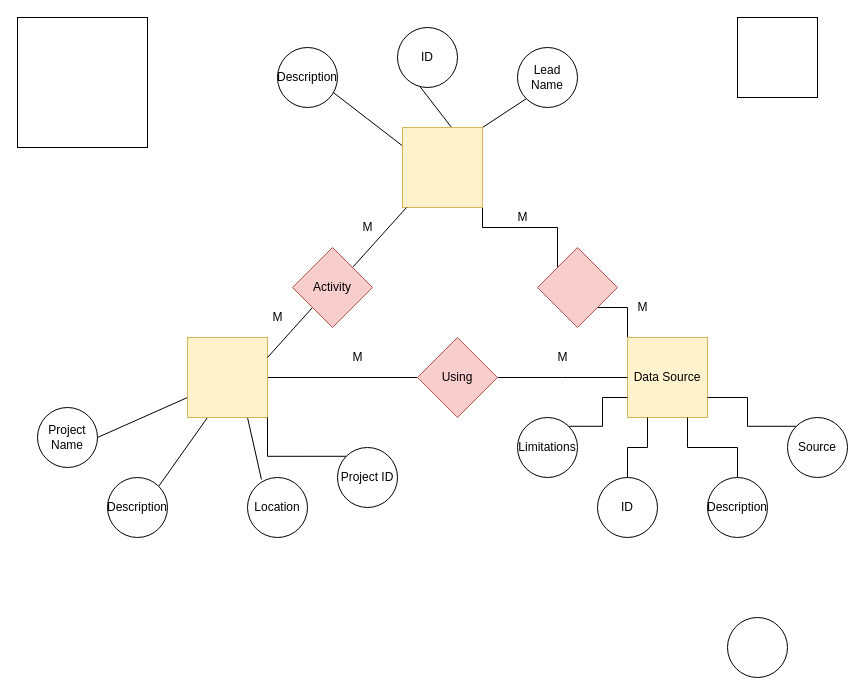
This 865x695 diagram has some shape labels left out. The box of each missing label's shape, as (x1, y1, x2, y2) in pixels:
Access: (536, 246, 618, 328)
Governor Agency Department Center/Office Division Branch/Program: (16, 16, 148, 148)
Team: (402, 126, 482, 208)
What team produces it: (726, 616, 788, 678)
Work: (186, 336, 268, 418)
